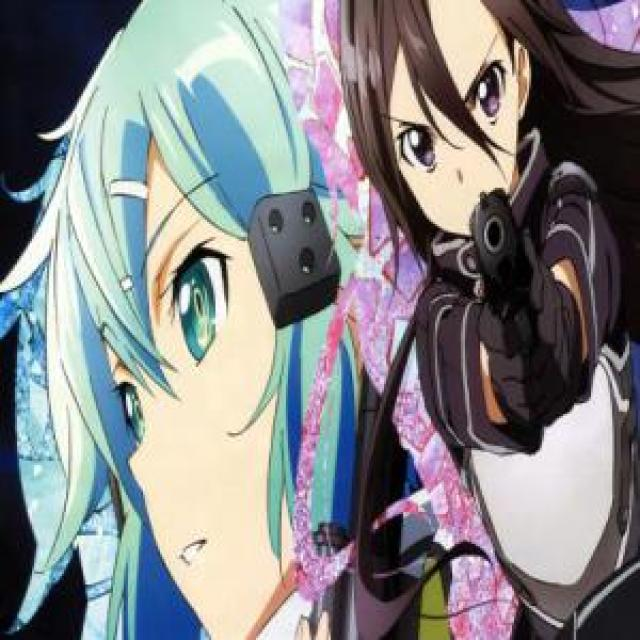pistol: (457, 175, 564, 416)
